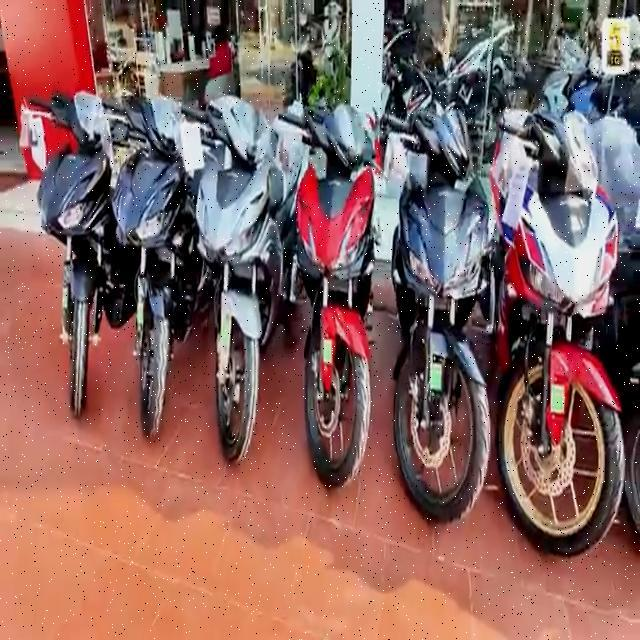motorcycle: (500, 104, 636, 559), (390, 98, 495, 528), (291, 88, 391, 493), (198, 87, 292, 468), (110, 78, 198, 435), (25, 80, 111, 426)
